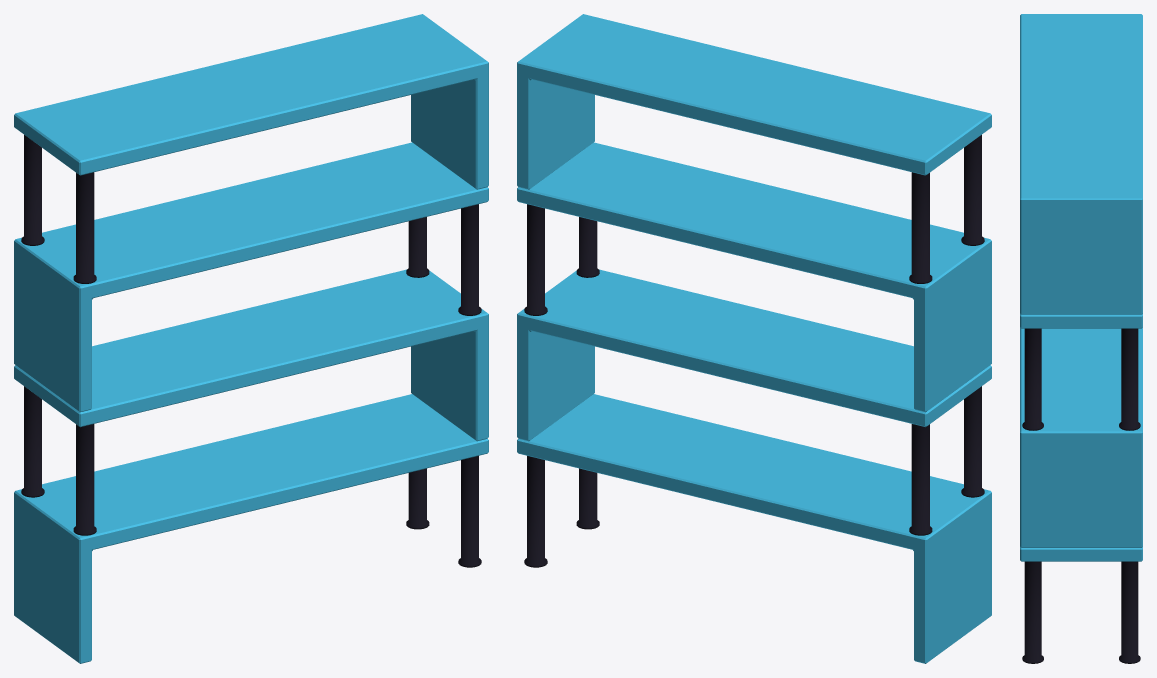
Rendered from Prop_Shelve_06.fbx.
The picture shows the model from 3 angles, left to right: view 1: azimuth 30°, elevation 25°; view 2: azimuth 150°, elevation 25°; view 3: azimuth 270°, elevation 25°; orthographic projection. The views are drawn at different scales.
Parts seen in each view (by area): view 1: Prop_Shelve_06; view 2: Prop_Shelve_06; view 3: Prop_Shelve_06.
Part boxes in pixels (x1,y1,x2,y2): Prop_Shelve_06: (14,14,488,663); Prop_Shelve_06: (517,14,991,663); Prop_Shelve_06: (1020,14,1142,663).
Size of the model in its own units: 122 by 143 by 34.19.
